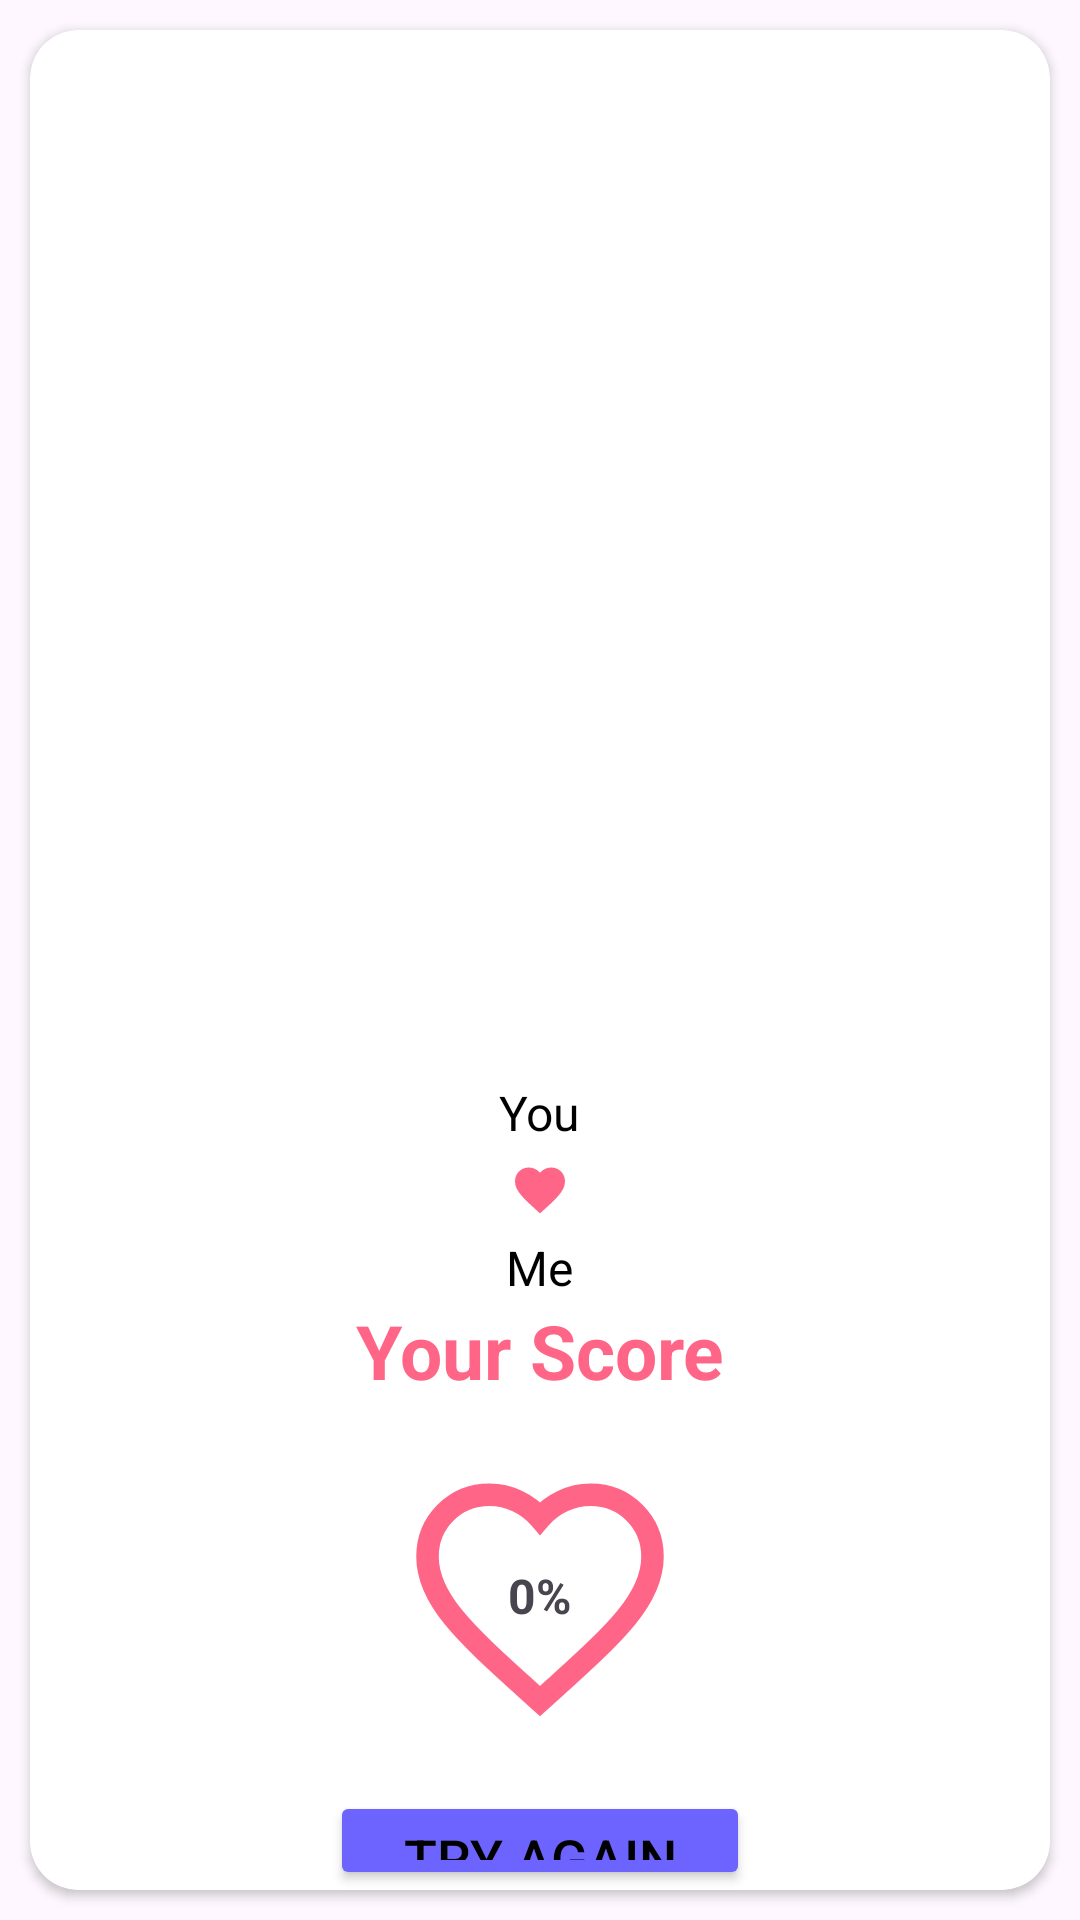

Point at icon controls on the screen. Image size 1080px×1920px, points as [x,y].
item heart: [540,1190], [540,1599]
